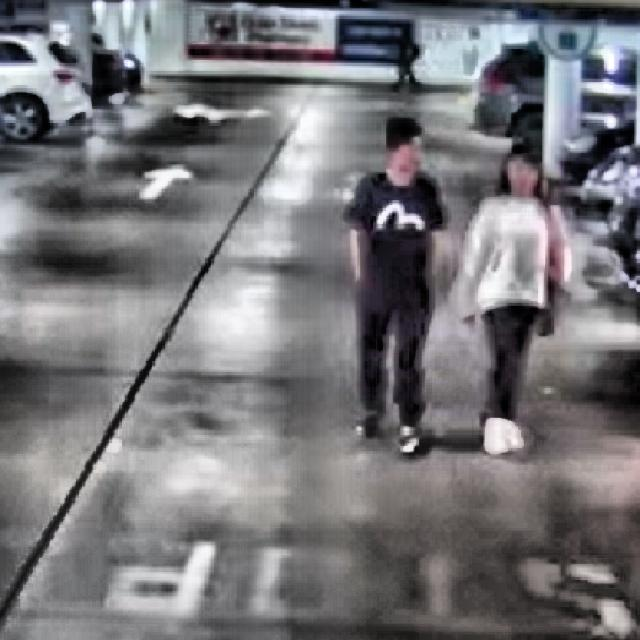Human: (329, 76, 454, 464), (460, 96, 589, 463)
